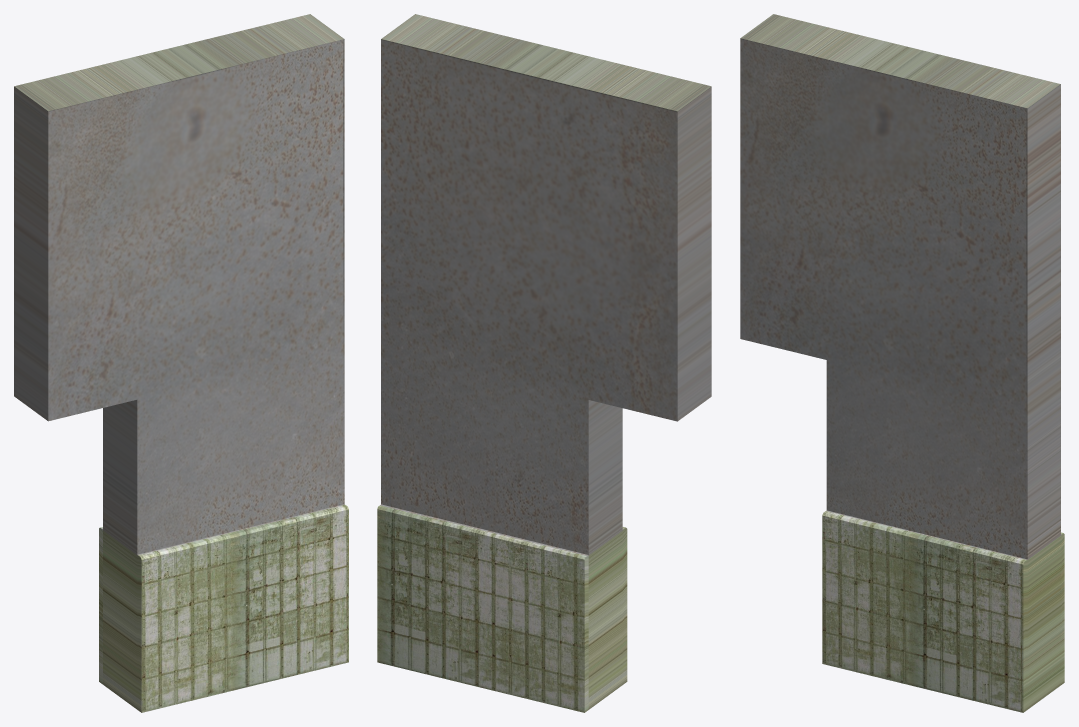
File: modular_door_right.fbx
3 renders of one model, left to right at view 1: azimuth 30°, elevation 25°; view 2: azimuth 150°, elevation 25°; view 3: azimuth 330°, elevation 25°, orthographic. The views are drawn at different scales.
Parts seen in each view (by area): view 1: modular_door_right_Mesh; view 2: modular_door_right_Mesh; view 3: modular_door_right_Mesh.
Boxes of the visible parts, x1,y1,x2,y2 form: modular_door_right_Mesh: (14,14,348,712); modular_door_right_Mesh: (377,14,711,712); modular_door_right_Mesh: (740,14,1064,712).
Size of the model in its own units: 250 by 500 by 62.25.
